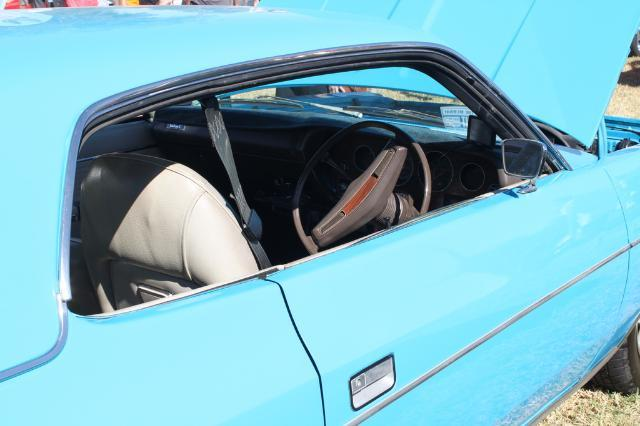Seatbelt: (194, 98, 272, 264)
